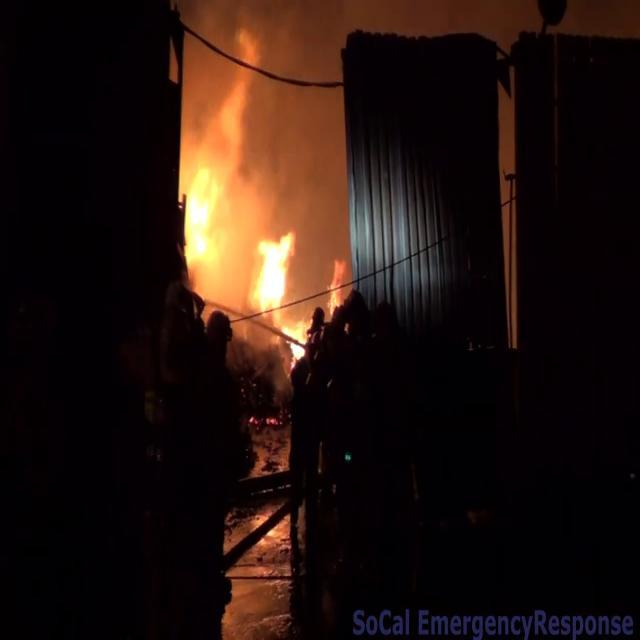Fire: (178, 160, 226, 290), (250, 225, 298, 322)
Smoke: (180, 0, 348, 257)
